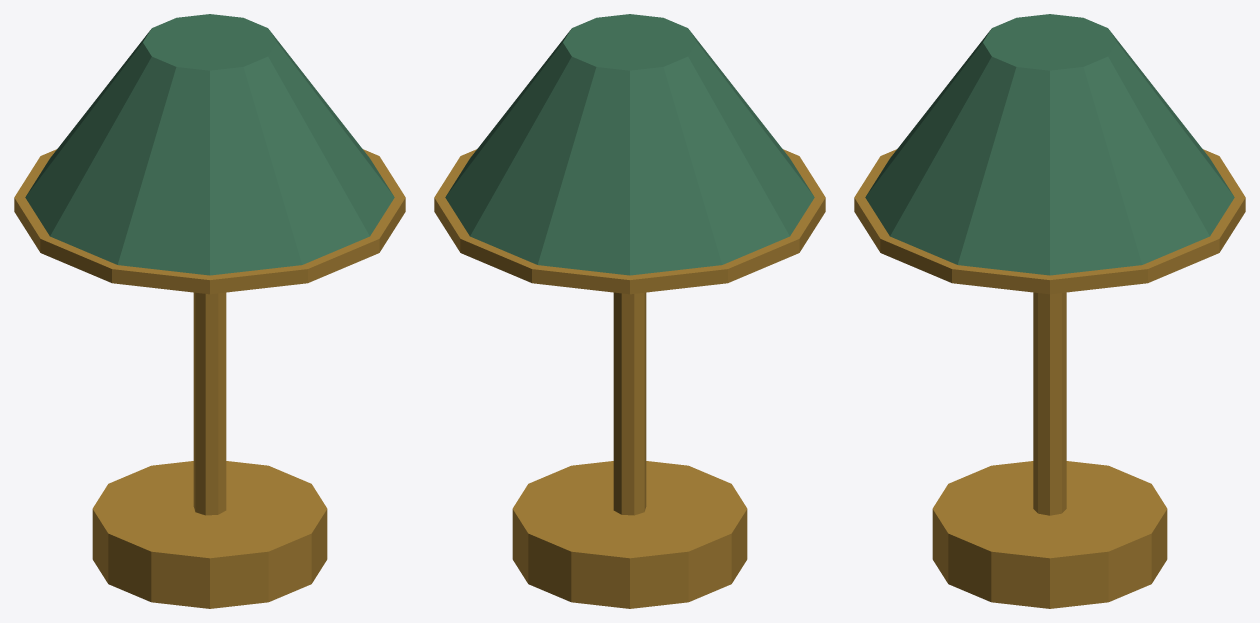
File: lamp.glb
3 views of the same model, side by side, from view 1: azimuth 30°, elevation 25°; view 2: azimuth 150°, elevation 25°; view 3: azimuth 270°, elevation 25° (orthographic).
Parts seen in each view (by area): view 1: Body_mesh; view 2: Body_mesh; view 3: Body_mesh.
Boxes of the visible parts, x1=… form: Body_mesh: x1=14, y1=14, x2=405, y2=608; Body_mesh: x1=434, y1=14, x2=825, y2=608; Body_mesh: x1=854, y1=14, x2=1245, y2=608.
Size of the model in its own units: 0.35 by 0.51 by 0.35.
